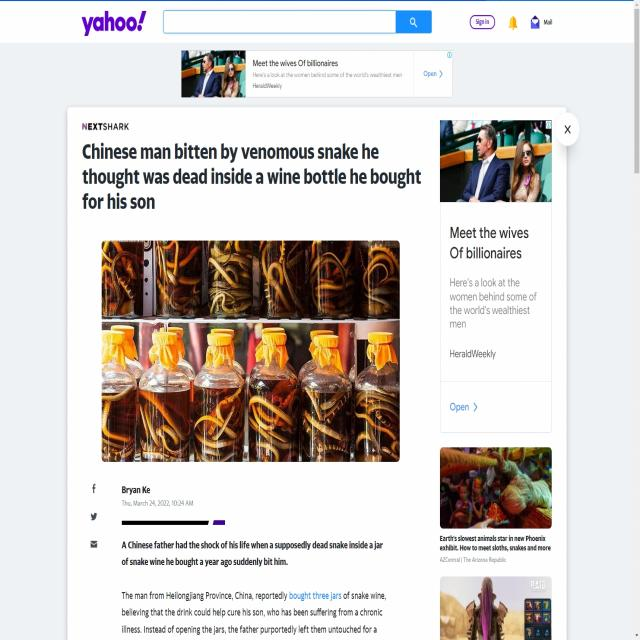menu-bar: (465, 8, 558, 37)
search: (161, 4, 433, 36)
